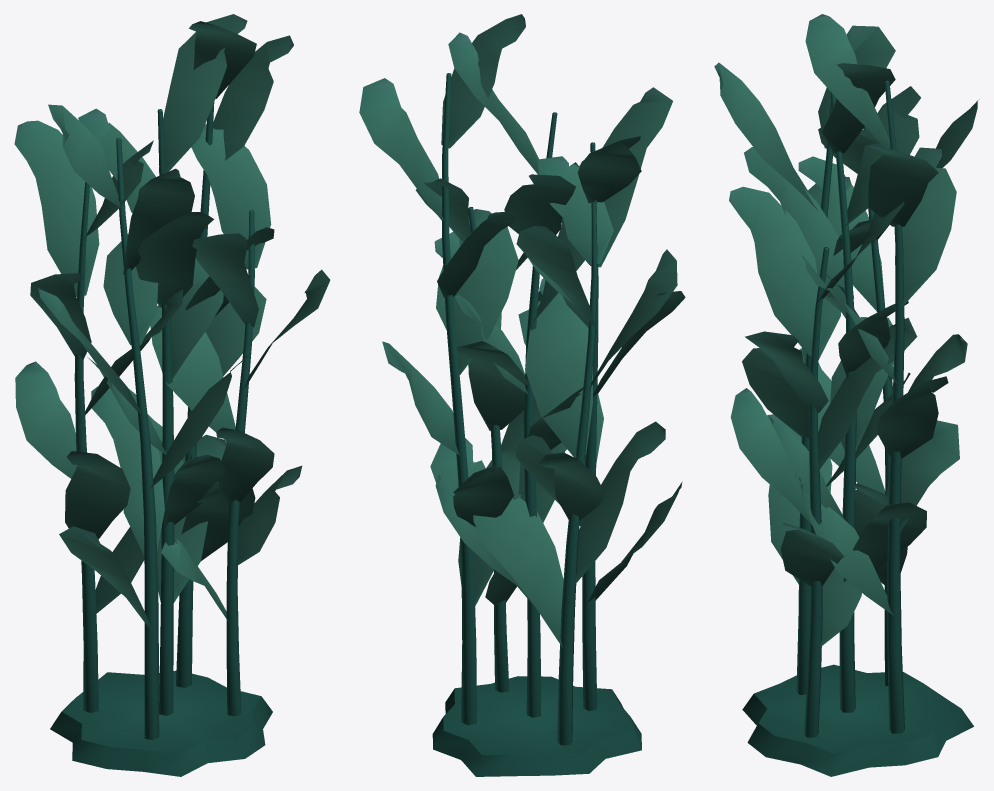
File: alien_ribbon_kelp_patch_lowpoly_v1.glb
3 renders of one model, left to right at view 1: azimuth 30°, elevation 25°; view 2: azimuth 150°, elevation 25°; view 3: azimuth 270°, elevation 25°, orthographic. The views are drawn at different scales.
Parts seen in each view (by area): view 1: AlienRibbonKelpPatch_Mesh; view 2: AlienRibbonKelpPatch_Mesh; view 3: AlienRibbonKelpPatch_Mesh.
Boxes of the visible parts, bbox=[...] form: AlienRibbonKelpPatch_Mesh: bbox=[14, 14, 330, 776]; AlienRibbonKelpPatch_Mesh: bbox=[359, 14, 685, 776]; AlienRibbonKelpPatch_Mesh: bbox=[714, 14, 979, 776].
Bounding box in the file's own units: 2.42 × 5.68 × 1.88.
